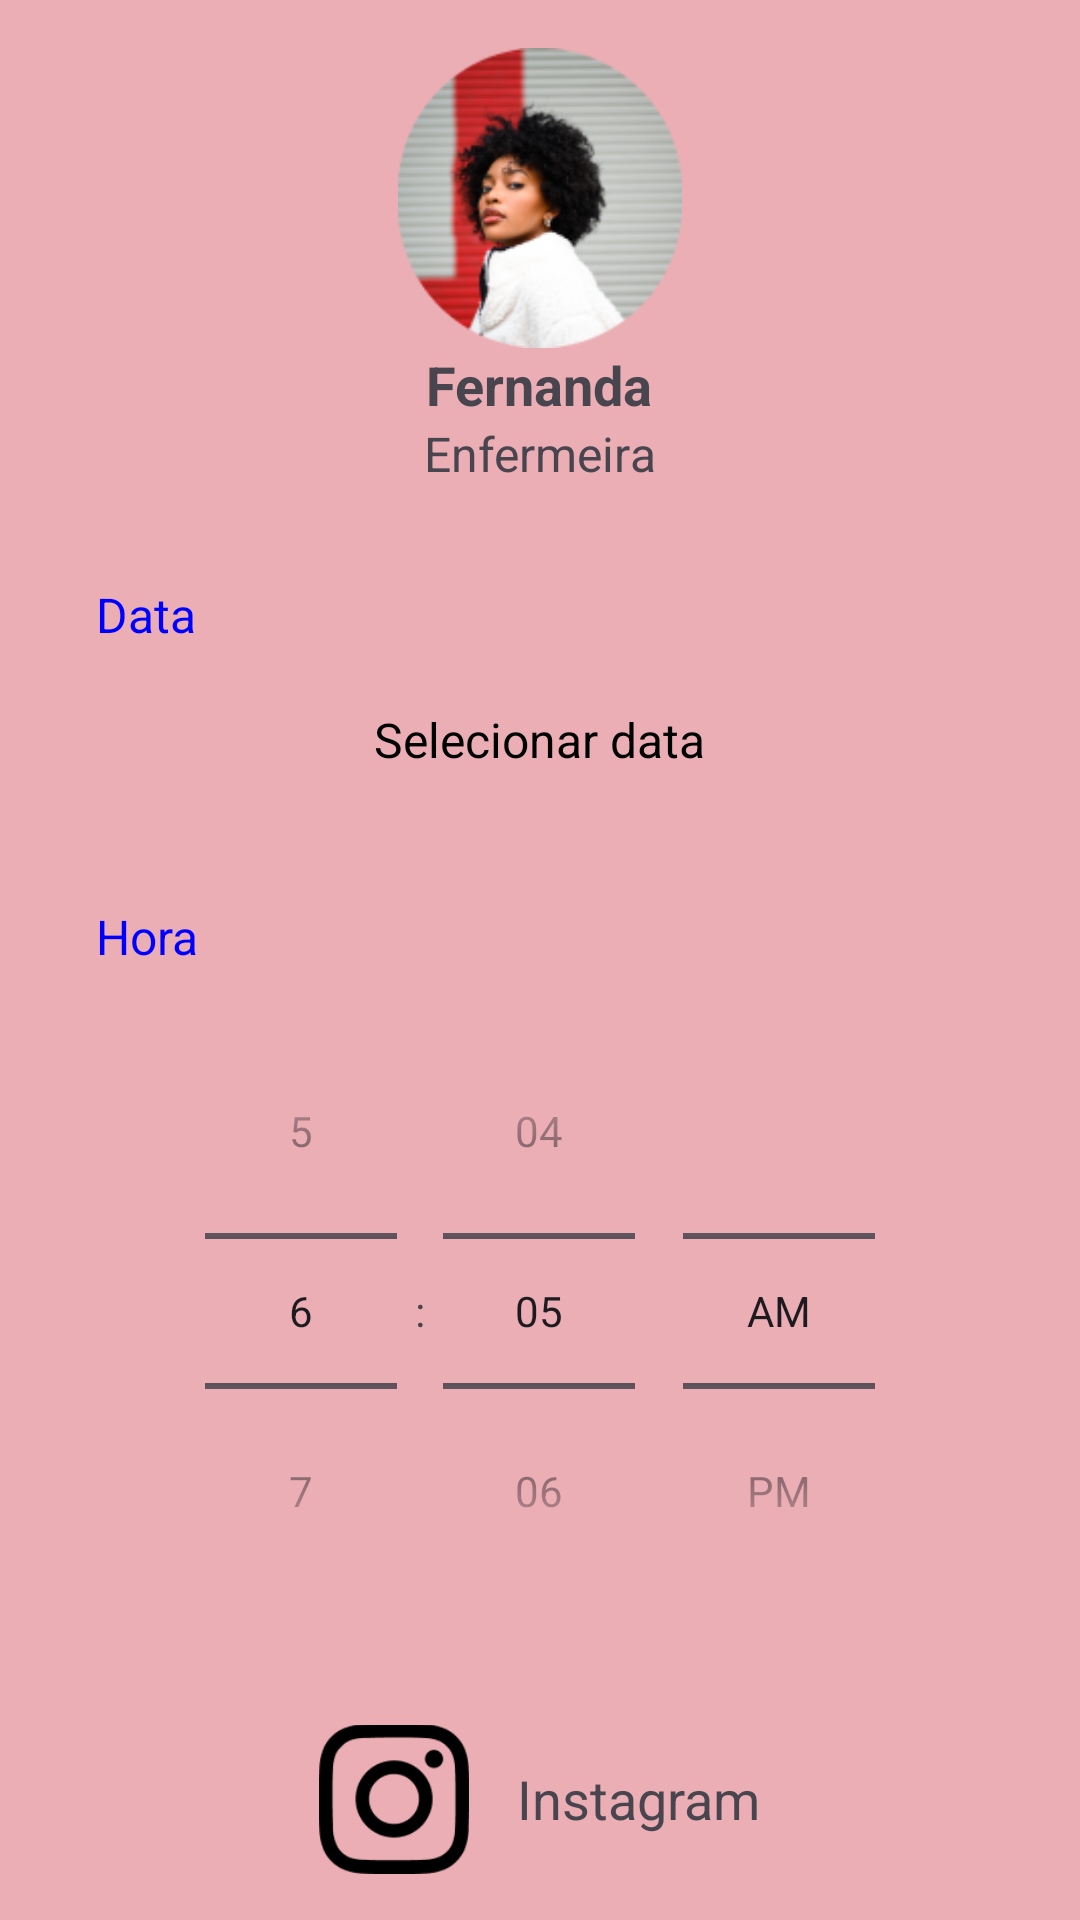

Screen size 1080px×1920px. Icon name, then its center in pixels as (x=x, y=y):
profile: (x=540, y=198)
